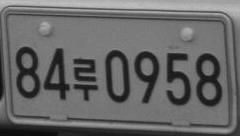0: (104, 49, 130, 103)
4: (43, 47, 69, 100)
5: (165, 51, 191, 106)
8: (195, 52, 223, 106), (15, 46, 40, 98)
9: (133, 50, 160, 104)
루: (73, 57, 98, 101)
